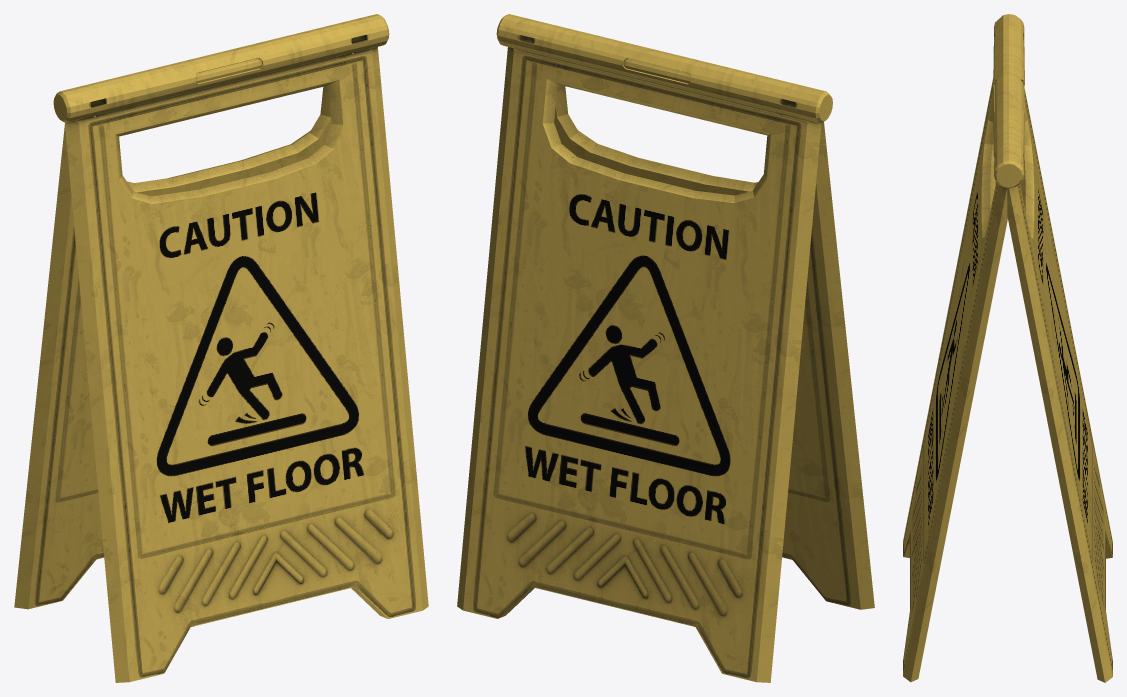
File: wet_floor_sign_low.fbx
3 renders of one model, left to right at view 1: azimuth 30°, elevation 25°; view 2: azimuth 150°, elevation 25°; view 3: azimuth 270°, elevation 25°, orthographic. The views are drawn at different scales.
Parts seen in each view (by area): view 1: lowpoly; view 2: lowpoly; view 3: lowpoly.
Boxes of the visible parts, box(x1,y1,x2,y2) form: lowpoly: box(14, 14, 428, 682); lowpoly: box(457, 14, 874, 682); lowpoly: box(903, 14, 1112, 682).
Bounding box in the file's own units: 25.69 × 42.22 × 15.31.
